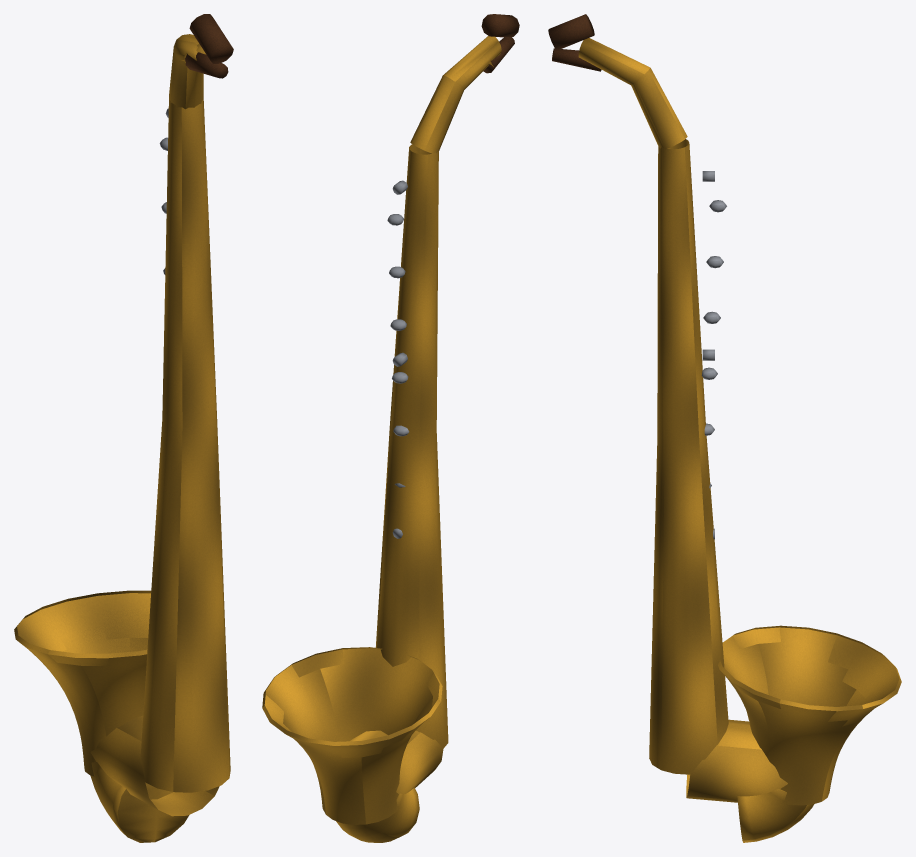
File: banda_saxofon.obj
The picture shows the model from 3 angles, left to right: view 1: azimuth 30°, elevation 25°; view 2: azimuth 150°, elevation 25°; view 3: azimuth 270°, elevation 25°; orthographic projection. The views are drawn at different scales.
Visible parts, largest first — view 1: banda_saxofon; view 2: banda_saxofon; view 3: banda_saxofon.
Part boxes in pixels (<box>): banda_saxofon: <box>14,14,233,842</box>; banda_saxofon: <box>262,14,519,842</box>; banda_saxofon: <box>548,14,901,842</box>.
Bounding box in the file's own units: 0.23 × 1.08 × 0.4304.
3 materials, 3 textured.
